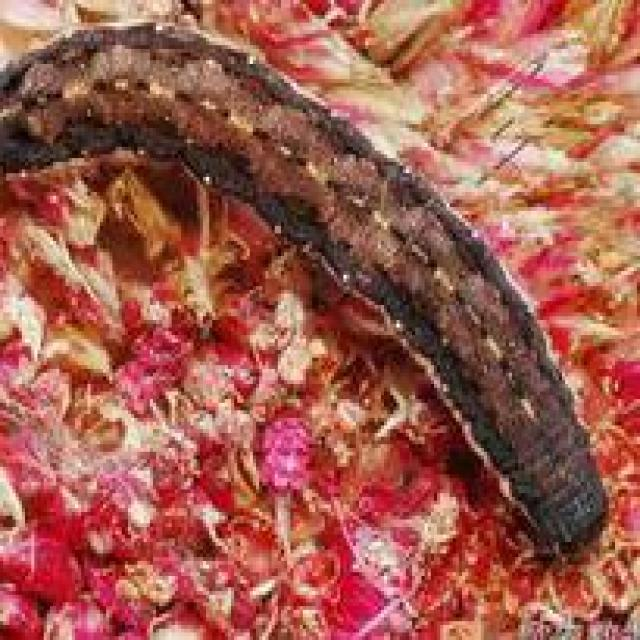armyworm: (1, 13, 625, 581)
